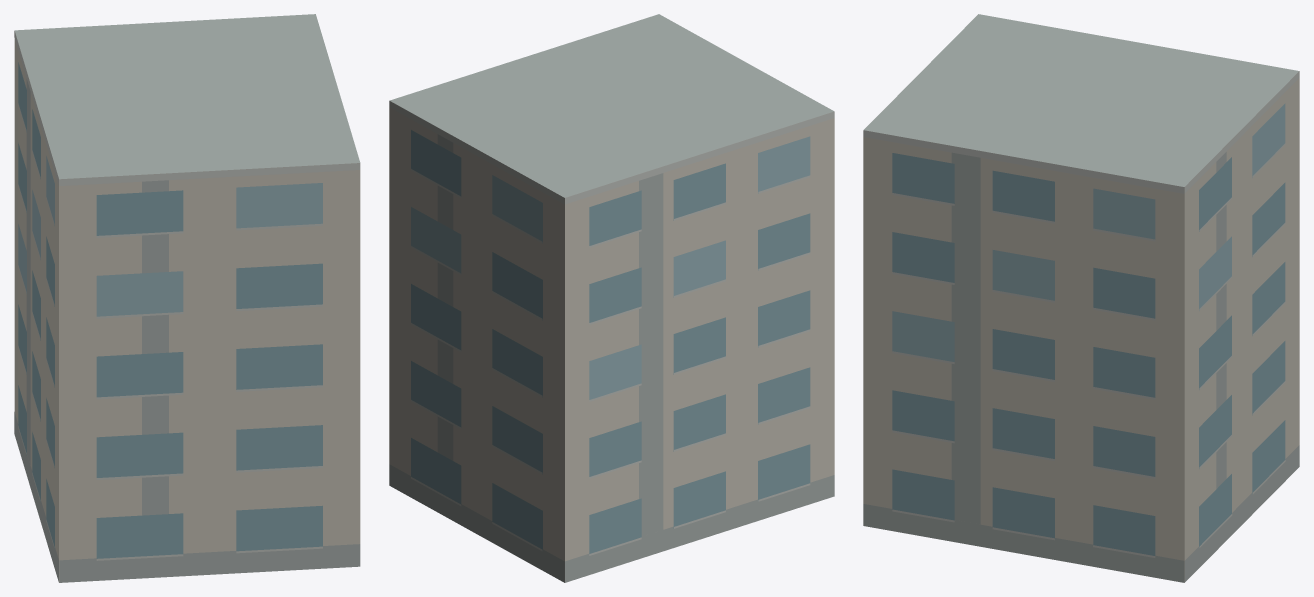
File: survey-upis-32527128.glb
The picture shows the model from 3 angles, left to right: view 1: azimuth 30°, elevation 25°; view 2: azimuth 150°, elevation 25°; view 3: azimuth 270°, elevation 25°; orthographic projection. The views are drawn at different scales.
Visible parts, largest first — view 1: survey-upis-32527128.tmp; view 2: survey-upis-32527128.tmp; view 3: survey-upis-32527128.tmp.
Boxes of the visible parts, x1,y1,x2,y2 form: survey-upis-32527128.tmp: (14, 14, 360, 582); survey-upis-32527128.tmp: (389, 14, 834, 582); survey-upis-32527128.tmp: (863, 14, 1299, 582).
Bounding box in the file's own units: 13.33 × 14.2 × 14.19.
